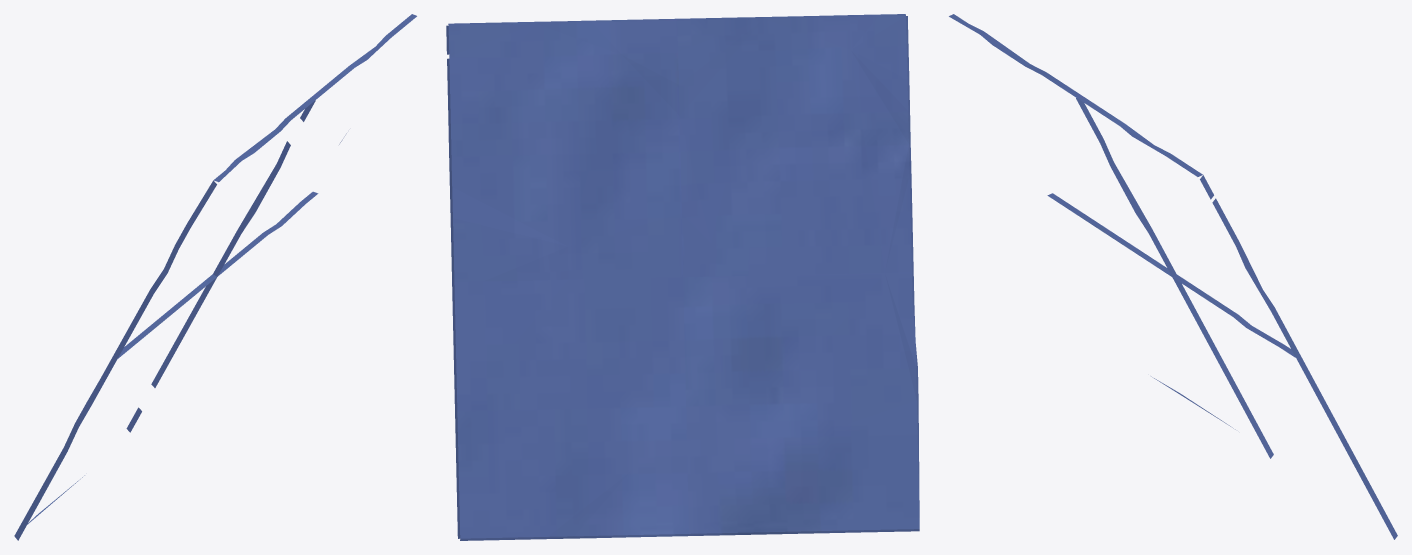
3 views of the same model, side by side, from view 1: azimuth 30°, elevation 25°; view 2: azimuth 150°, elevation 25°; view 3: azimuth 270°, elevation 25° (orthographic). The views are drawn at different scales.
Bounding box in the file's own units: 39408 × 35388 × 34428.
1 material, 1 textured.
